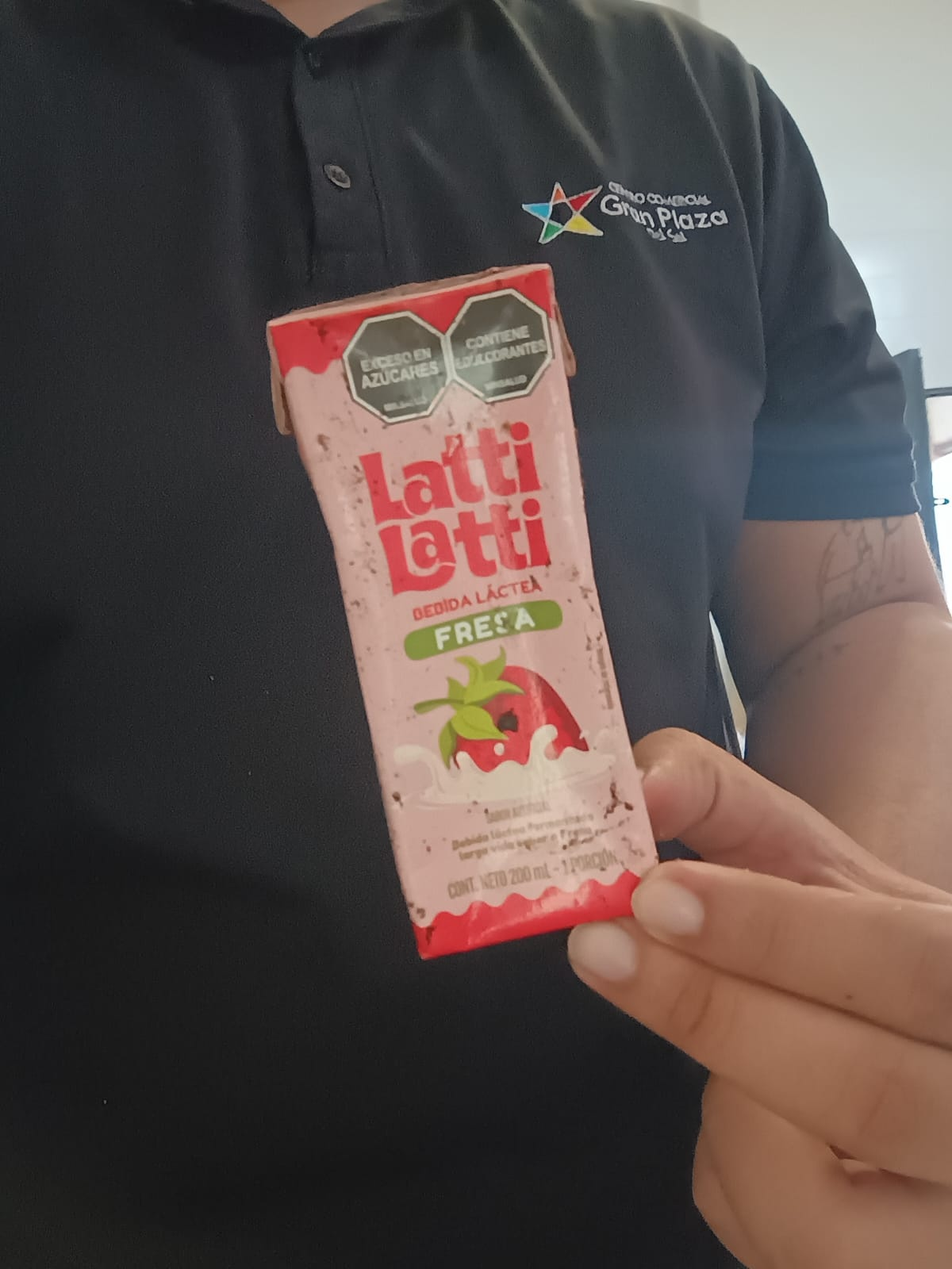Carton: (266, 265, 664, 959)
